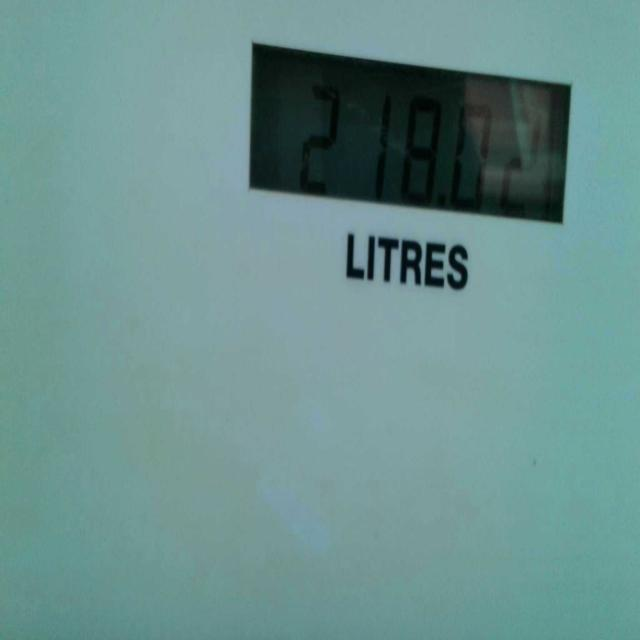.: (442, 193, 448, 208)
0: (499, 100, 540, 214), (452, 103, 487, 210)
1: (372, 85, 391, 195)
2: (301, 81, 341, 190)
8: (400, 94, 438, 206)
